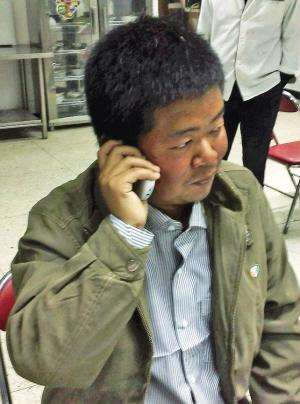phone: (107, 141, 154, 201)
talk: (86, 107, 227, 219)
